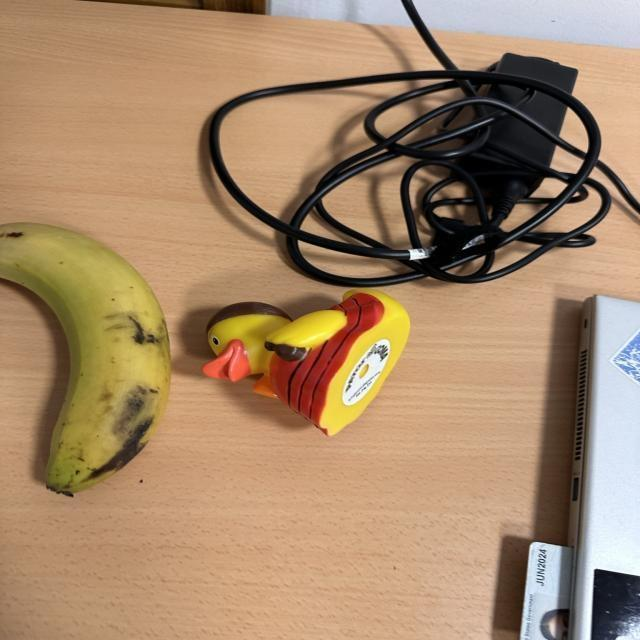rubber-duck: (201, 289, 408, 433)
